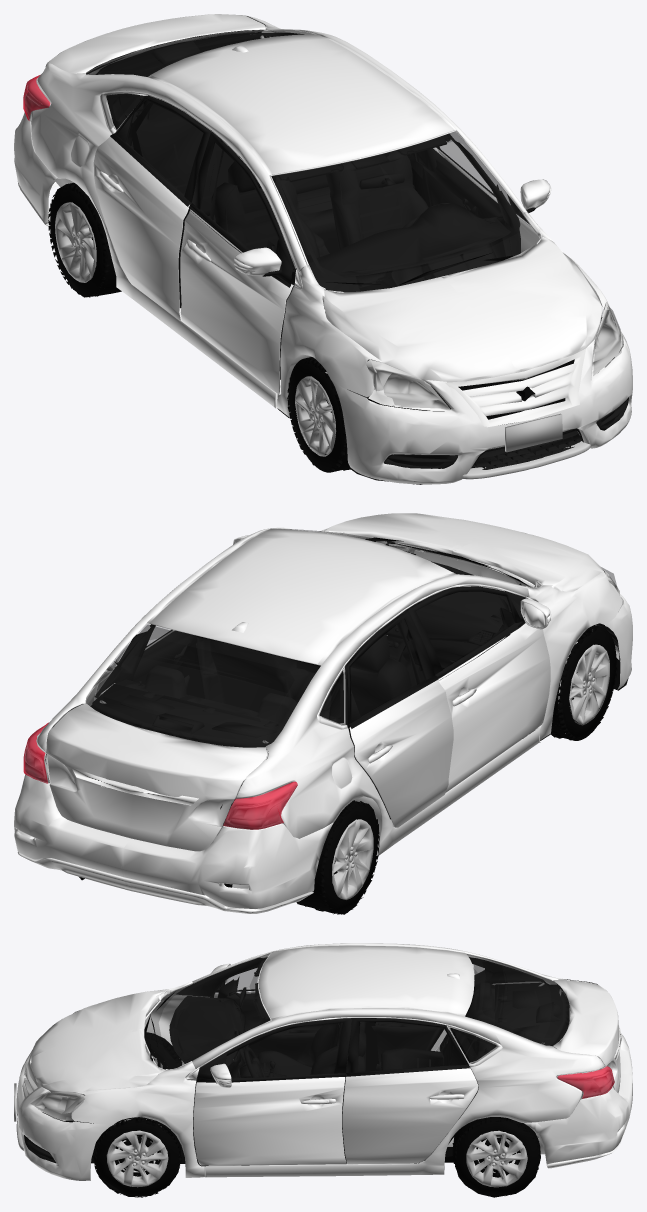
The model's file is sedan_sylphy_lod1.glb.
3 renders of one model, top to bottom at view 1: azimuth 30°, elevation 25°; view 2: azimuth 150°, elevation 25°; view 3: azimuth 270°, elevation 25°, orthographic. The views are drawn at different scales.
Parts seen in each view (by area): view 1: mmGroup5_wire_008008136 #3_0, mmGroup7_wire_143224087 #13_0, mmGroup90_wire_006134006 #10_0, mmGroup1_wire_008008136 #2_0, object 6, mmGroup8_wire_028089177 #1_0, mmGroup3_wire_087224198 #18_0, mmGroup85_wire_028089177 #14_0; view 2: mmGroup5_wire_008008136 #3_0, mmGroup7_wire_143224087 #13_0, mmGroup90_wire_006134006 #10_0, object 6, mmGroup8_wire_028089177 #1_0, mmGroup85_wire_028089177 #14_0, mmGroup1_wire_008008136 #2_0; view 3: mmGroup5_wire_008008136 #3_0, mmGroup7_wire_143224087 #13_0, mmGroup90_wire_006134006 #10_0, mmGroup8_wire_028089177 #1_0, object 6, mmGroup1_wire_008008136 #2_0, mmGroup85_wire_028089177 #14_0.
Part boxes in pixels (x1,y1,x2,y2): mmGroup5_wire_008008136 #3_0: [14, 14, 632, 484]; mmGroup7_wire_143224087 #13_0: [86, 16, 628, 469]; mmGroup90_wire_006134006 #10_0: [86, 30, 621, 408]; mmGroup1_wire_008008136 #2_0: [366, 302, 622, 427]; object 6: [24, 29, 562, 456]; mmGroup8_wire_028089177 #1_0: [48, 118, 614, 484]; mmGroup3_wire_087224198 #18_0: [462, 441, 590, 479]; mmGroup85_wire_028089177 #14_0: [23, 75, 50, 120]; mmGroup5_wire_008008136 #3_0: [14, 513, 632, 913]; mmGroup7_wire_143224087 #13_0: [45, 541, 620, 826]; mmGroup90_wire_006134006 #10_0: [86, 528, 617, 747]; object 6: [25, 641, 609, 899]; mmGroup8_wire_028089177 #1_0: [79, 537, 628, 914]; mmGroup85_wire_028089177 #14_0: [23, 722, 297, 829]; mmGroup1_wire_008008136 #2_0: [71, 568, 622, 805]; mmGroup5_wire_008008136 #3_0: [16, 943, 632, 1180]; mmGroup7_wire_143224087 #13_0: [17, 957, 613, 1165]; mmGroup90_wire_006134006 #10_0: [31, 953, 569, 1119]; mmGroup8_wire_028089177 #1_0: [42, 991, 540, 1197]; object 6: [14, 982, 613, 1187]; mmGroup1_wire_008008136 #2_0: [17, 1010, 621, 1120]; mmGroup85_wire_028089177 #14_0: [557, 1066, 614, 1098].
Size of the model in its own units: 2.03 by 1.48 by 4.61.
